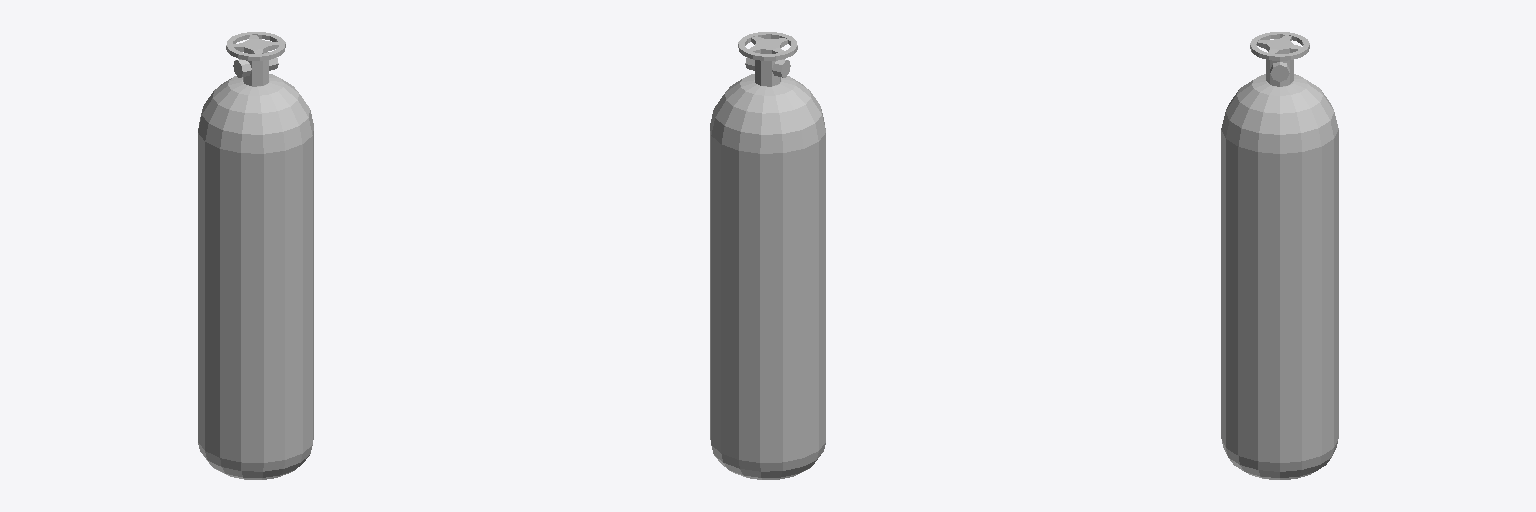
File: tub.obj
The picture shows the model from 3 angles: view 1: azimuth 30°, elevation 25°; view 2: azimuth 150°, elevation 25°; view 3: azimuth 270°, elevation 25°; orthographic projection.
Visible parts, largest first — view 1: Cube; view 2: Cube; view 3: Cube.
Boxes of the visible parts, x1=… form: Cube: x1=198, y1=32, x2=313, y2=479; Cube: x1=710, y1=32, x2=825, y2=479; Cube: x1=1221, y1=32, x2=1338, y2=479.
Bounding box in the file's own units: 0.3308 × 1.32 × 0.3308.